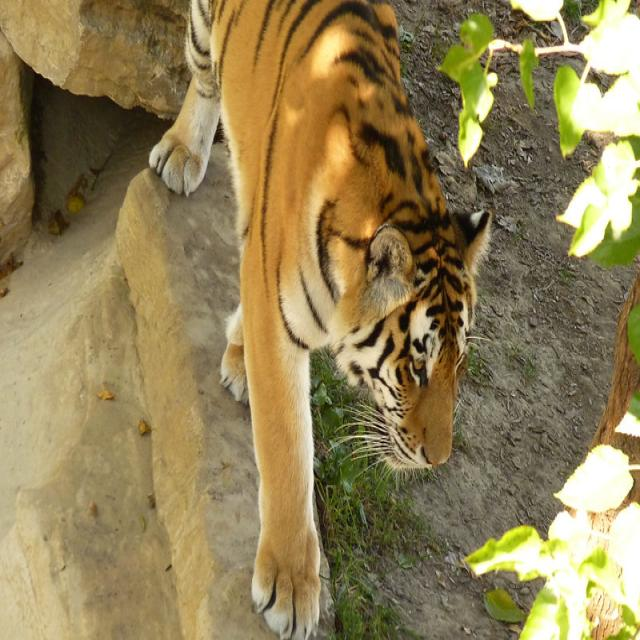Tiger: (145, 0, 494, 639)
